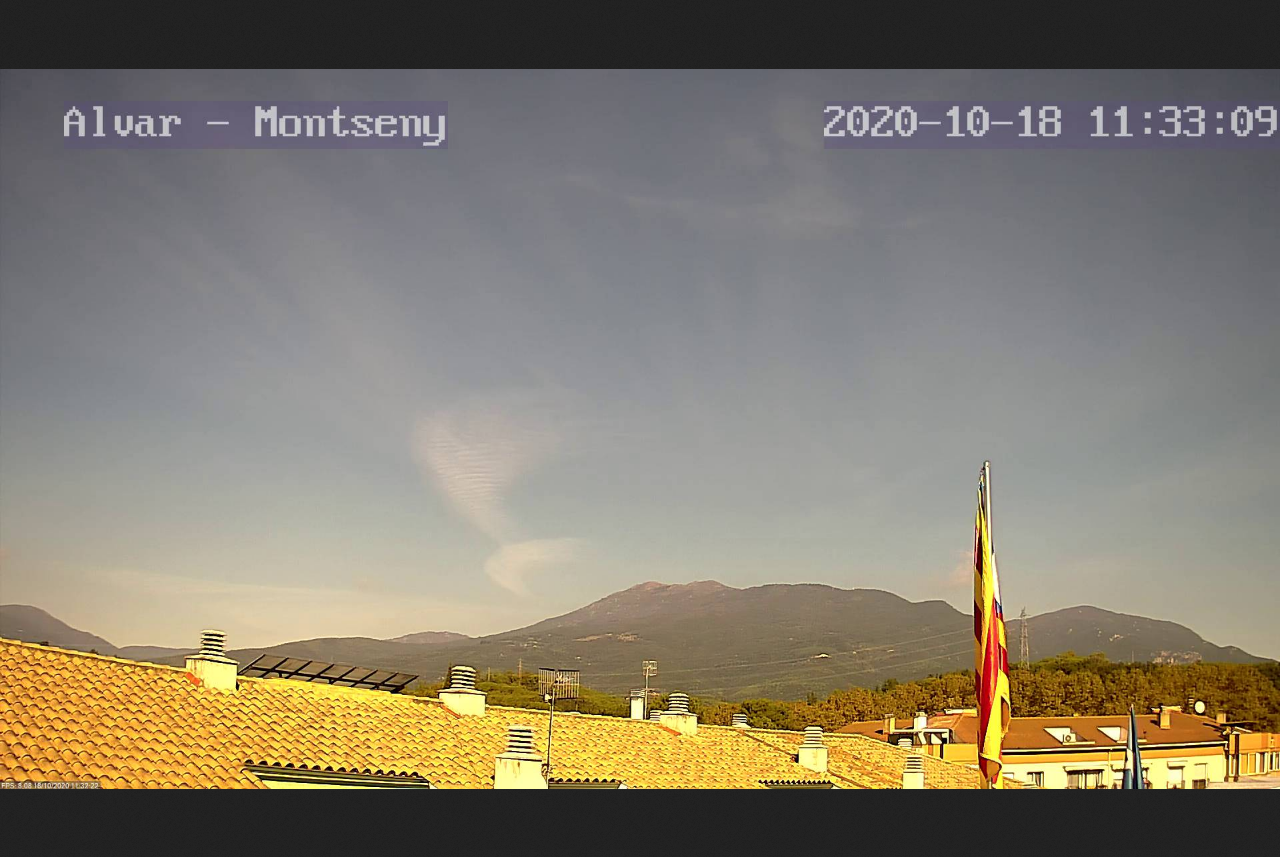no: (967, 463, 1011, 786)
